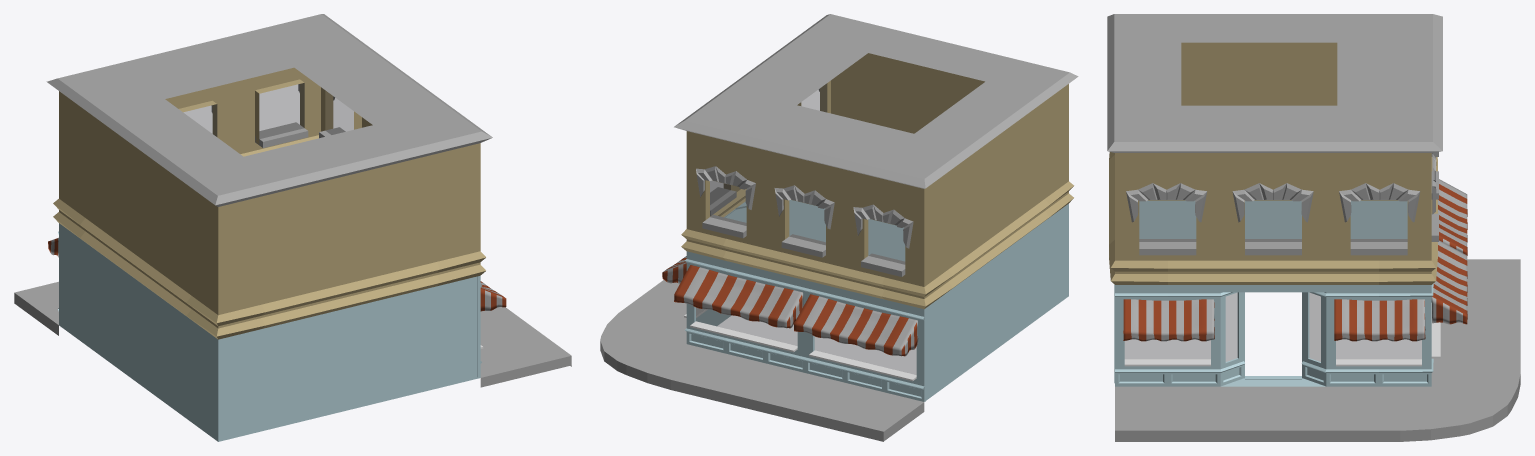
The model's file is cornerstore.glb.
3 renders of one model, left to right at view 1: azimuth 30°, elevation 25°; view 2: azimuth 150°, elevation 25°; view 3: azimuth 270°, elevation 25°, orthographic. The views are drawn at different scales.
Visible parts, largest first — view 1: store.003, store, curb, Plane.001; view 2: store.003, store, curb, Plane.004, Plane.005, windows, windowdecoration, ceiling, store.001; view 3: store.003, curb, store, ceiling, windows, windowdecoration, Plane.001, Plane.002, Plane.004, Plane.005, store.001.
Boxes of the visible parts, x1,y1,x2,y2 form: store.003: [46, 14, 492, 339]; store: [58, 223, 481, 441]; curb: [14, 281, 571, 387]; Plane.001: [480, 281, 506, 311]; store.003: [674, 14, 1078, 309]; store: [685, 203, 1068, 401]; curb: [600, 280, 924, 441]; Plane.004: [674, 265, 803, 328]; Plane.005: [794, 294, 918, 356]; windows: [696, 307, 916, 374]; windowdecoration: [696, 89, 913, 248]; ceiling: [724, 200, 905, 261]; store.001: [684, 308, 916, 381]; store.003: [1107, 14, 1442, 284]; curb: [1115, 259, 1520, 441]; store: [1114, 283, 1433, 386]; ceiling: [1139, 200, 1407, 238]; windows: [1125, 293, 1421, 361]; windowdecoration: [1126, 152, 1436, 222]; Plane.001: [1123, 299, 1214, 341]; Plane.002: [1334, 299, 1425, 341]; Plane.004: [1431, 240, 1467, 324]; Plane.005: [1438, 179, 1467, 255]; store.001: [1124, 303, 1440, 366].
Bounding box in the file's own units: 10.4 × 7.11 × 10.4.
